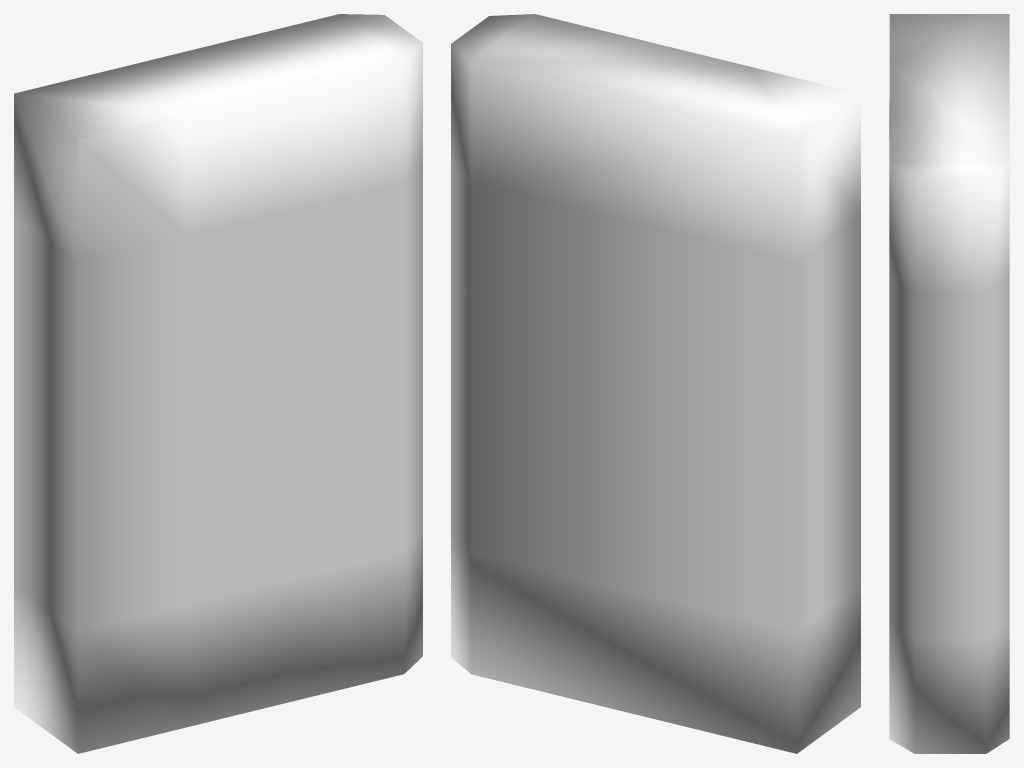
File: KM_GIANTBOOK.glb
The picture shows the model from 3 angles, left to right: view 1: azimuth 30°, elevation 25°; view 2: azimuth 150°, elevation 25°; view 3: azimuth 270°, elevation 25°; orthographic projection. The views are drawn at different scales.
Visible parts, largest first — view 1: Mesh; view 2: Mesh; view 3: Mesh.
Boxes of the visible parts, x1,y1,x2,y2 form: Mesh: [14, 14, 422, 753]; Mesh: [451, 14, 860, 753]; Mesh: [889, 14, 1009, 753].
Size of the model in its own units: 2.78 by 4.55 by 0.8595.
1 material, 1 textured.
